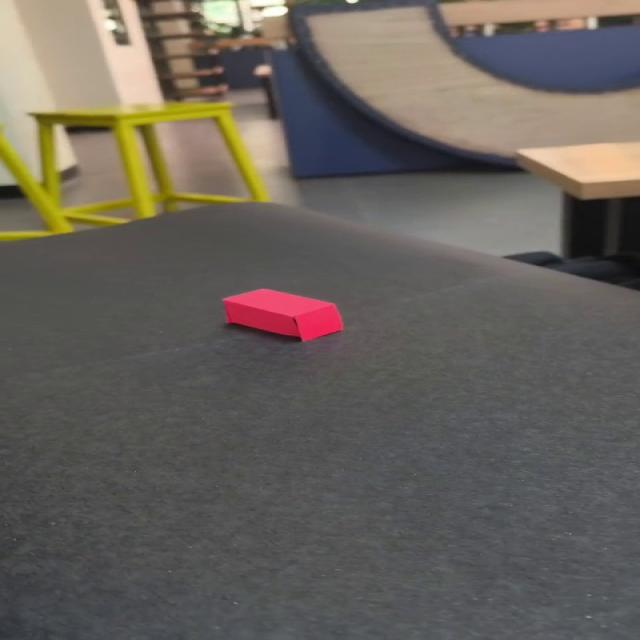red block: (220, 288, 344, 342)
